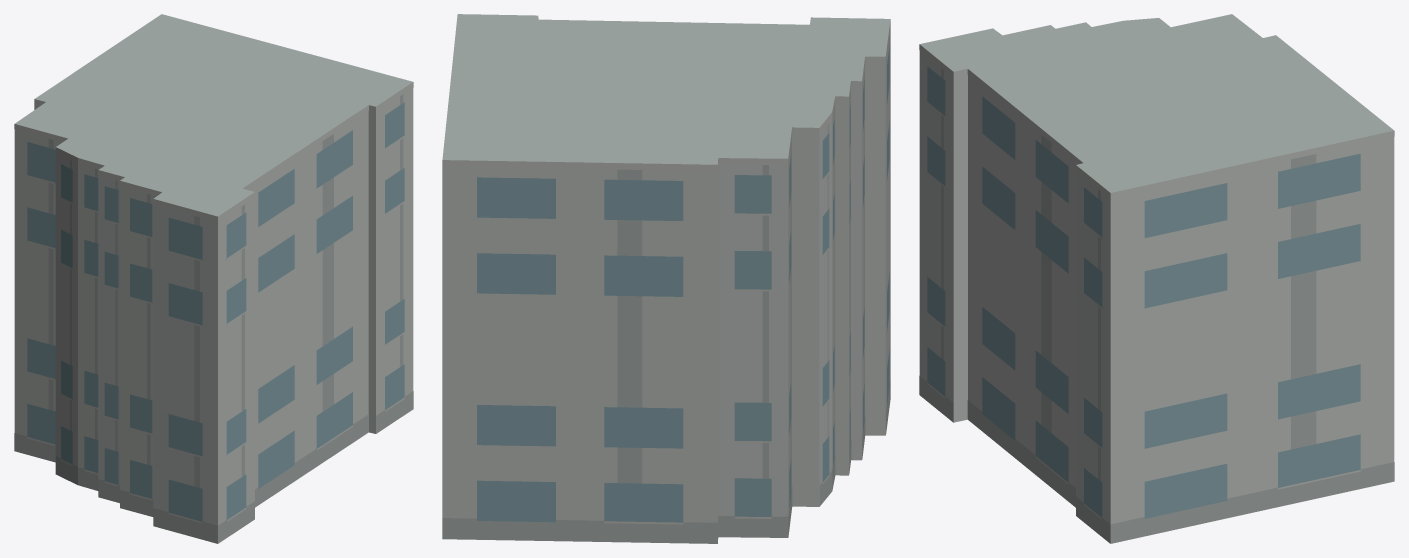
The model's file is survey-upis-32796248.glb.
The picture shows the model from 3 angles, left to right: view 1: azimuth 30°, elevation 25°; view 2: azimuth 150°, elevation 25°; view 3: azimuth 270°, elevation 25°; orthographic projection. The views are drawn at different scales.
Visible parts, largest first — view 1: survey-upis-32796248.tmp; view 2: survey-upis-32796248.tmp; view 3: survey-upis-32796248.tmp.
Boxes of the visible parts, bbox=[...] form: survey-upis-32796248.tmp: bbox=[14, 14, 413, 543]; survey-upis-32796248.tmp: bbox=[442, 14, 890, 543]; survey-upis-32796248.tmp: bbox=[919, 14, 1394, 543].
Bounding box in the file's own units: 15.44 × 14.1 × 17.31.
